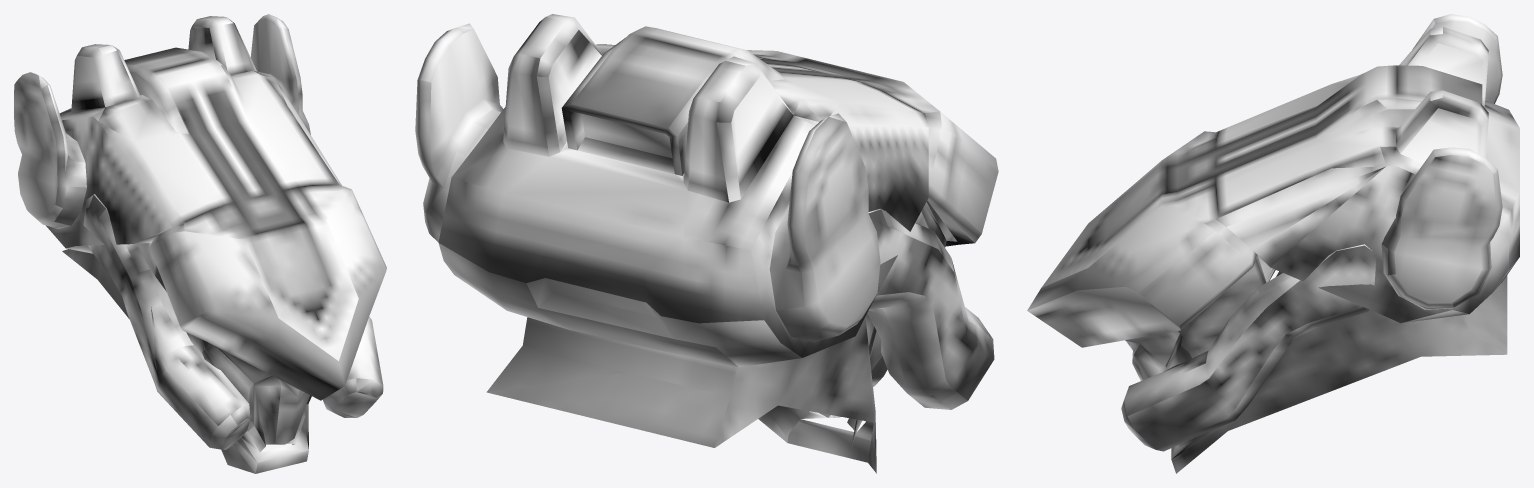
The model's file is h_scan.glb.
The picture shows the model from 3 angles, left to right: view 1: azimuth 30°, elevation 25°; view 2: azimuth 150°, elevation 25°; view 3: azimuth 270°, elevation 25°; orthographic projection. The views are drawn at different scales.
Parts seen in each view (by area): view 1: h_scan; view 2: h_scan; view 3: h_scan.
Part boxes in pixels (x1,y1,x2,y2): h_scan: [14, 14, 386, 473]; h_scan: [415, 14, 998, 473]; h_scan: [1027, 14, 1519, 473].
Size of the model in its own units: 0.3723 by 0.47 by 0.529.
Materials: 3 (3 with a texture image).
